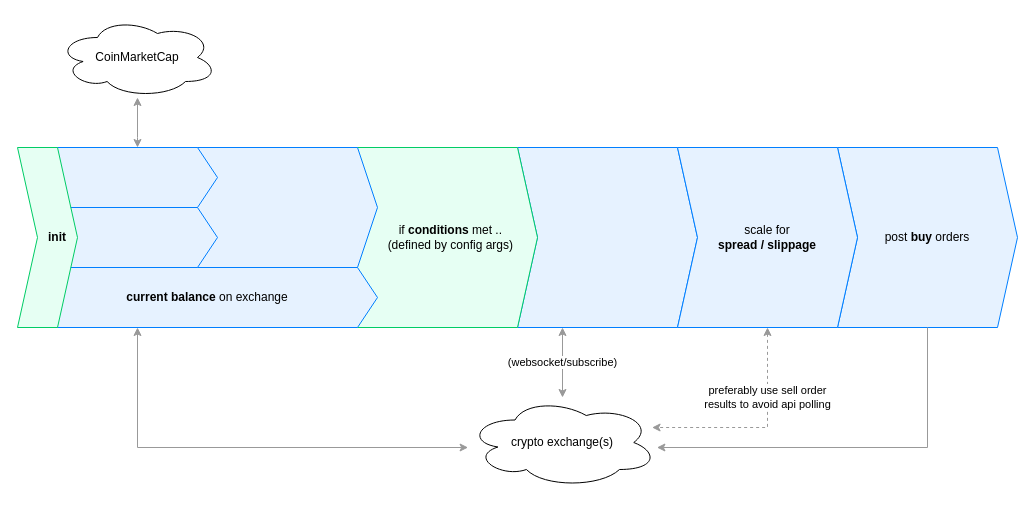
This 1035x505 diagram has some shape labels left out. The centre of each missing label's shape, as x and y in pixels:
"balanced allocations (calc by market cap and config args)" goes at point 277,207.
"configuration" goes at point 127,237.
"market cap" goes at point 127,177.
"post sell orders and confirm all filled" goes at point 607,237.
